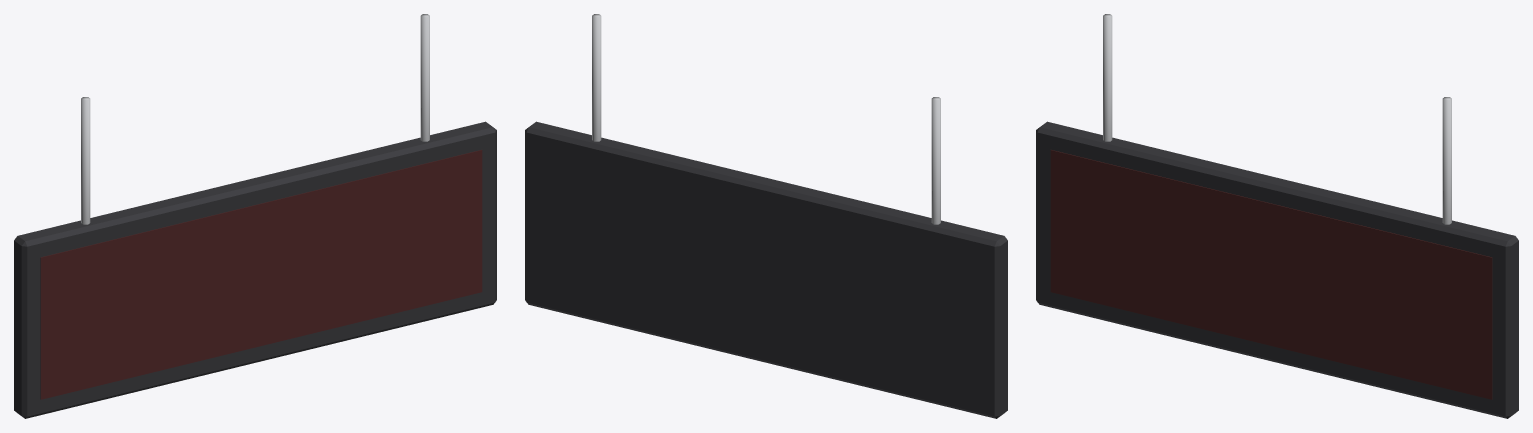
The model's file is number_display.glb.
The picture shows the model from 3 angles, left to right: view 1: azimuth 30°, elevation 25°; view 2: azimuth 150°, elevation 25°; view 3: azimuth 330°, elevation 25°; orthographic projection.
Parts seen in each view (by area): view 1: number_display; view 2: number_display; view 3: number_display.
Boxes of the visible parts, x1,y1,x2,y2 form: number_display: (14,14,496,418); number_display: (525,14,1007,418); number_display: (1036,14,1518,418).
Bounding box in the file's own units: 1.4 × 0.85 × 0.062.
